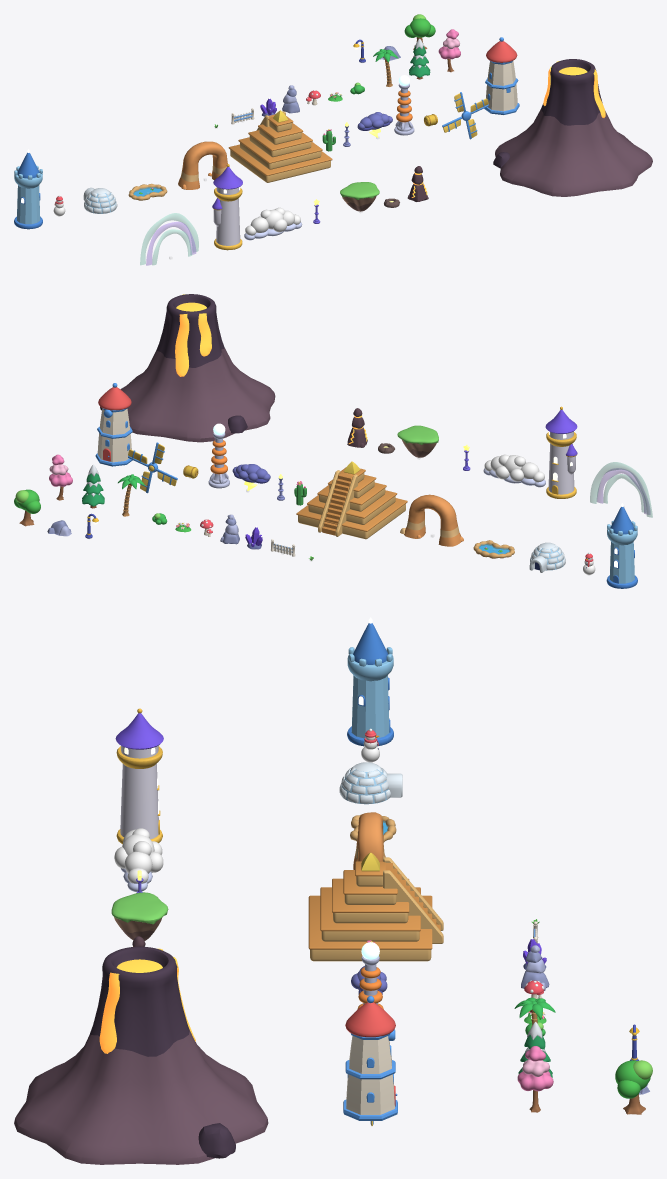
File: StormWorldProps.glb
The picture shows the model from 3 angles, top to bottom: view 1: azimuth 30°, elevation 25°; view 2: azimuth 150°, elevation 25°; view 3: azimuth 270°, elevation 25°; orthographic projection. The views are drawn at different scales.
Parts seen in each view (by area): view 1: Volcano.Primary, Volcano.Secondary, Pyramid.Secondary, Pyramid.Primary, Windmill.Color_FFF4E0, SandArch.Primary, IceCastleTower.Primary, CitadelTower.Primary, AuroraArch.Glass_9EF0D8, CloudBank.Color_FFFFFF, Igloo.Color_EAF6FF, IceCastleTower.Secondary (+15 smaller); view 2: Volcano.Primary, Volcano.Secondary, Pyramid.Secondary, Pyramid.Primary, SandArch.Primary, Volcano.Neon_FF7A2E, IceCastleTower.Primary, Windmill.Color_FFF4E0, AuroraArch.Glass_9EF0D8, CitadelTower.Primary, CloudBank.Color_FFFFFF, Igloo.Color_EAF6FF (+14 smaller); view 3: Volcano.Primary, Volcano.Secondary, Pyramid.Secondary, Pyramid.Primary, Windmill.Color_FFF4E0, IceCastleTower.Primary, CitadelTower.Primary, Igloo.Color_EAF6FF, CloudBank.Color_FFFFFF, Volcano.Neon_FF7A2E, FloatingIsland.Primary, IceCastleTower.Secondary (+6 smaller).
Boxes of the visible parts, bbox=[...] form: Volcano.Primary: bbox=[495, 109, 652, 196]; Volcano.Secondary: bbox=[493, 59, 602, 168]; Pyramid.Secondary: bbox=[228, 114, 332, 175]; Pyramid.Primary: bbox=[230, 111, 330, 182]; Windmill.Color_FFF4E0: bbox=[486, 61, 517, 111]; SandArch.Primary: bbox=[178, 141, 227, 189]; IceCastleTower.Primary: bbox=[14, 165, 42, 224]; CitadelTower.Primary: bbox=[213, 187, 240, 245]; AuroraArch.Glass_9EF0D8: bbox=[140, 213, 198, 265]; CloudBank.Color_FFFFFF: bbox=[245, 207, 300, 235]; Igloo.Color_EAF6FF: bbox=[83, 187, 117, 213]; IceCastleTower.Secondary: bbox=[14, 152, 42, 229]; Volcano.Primary: bbox=[120, 348, 275, 442]; Volcano.Secondary: bbox=[100, 294, 247, 433]; Pyramid.Secondary: bbox=[296, 467, 407, 535]; Pyramid.Primary: bbox=[298, 470, 405, 539]; SandArch.Primary: bbox=[404, 494, 463, 546]; Volcano.Neon_FF7A2E: bbox=[175, 294, 211, 376]; IceCastleTower.Primary: bbox=[607, 520, 637, 583]; Windmill.Color_FFF4E0: bbox=[97, 408, 131, 462]; AuroraArch.Glass_9EF0D8: bbox=[590, 462, 652, 517]; CitadelTower.Primary: bbox=[548, 431, 575, 494]; CloudBank.Color_FFFFFF: bbox=[484, 454, 544, 482]; Igloo.Color_EAF6FF: bbox=[529, 542, 565, 572]; Volcano.Primary: bbox=[14, 1030, 268, 1164]; Volcano.Secondary: bbox=[89, 946, 235, 1158]; Pyramid.Secondary: bbox=[308, 861, 440, 949]; Pyramid.Primary: bbox=[310, 857, 443, 961]; Windmill.Color_FFF4E0: bbox=[346, 1035, 394, 1114]; IceCastleTower.Primary: bbox=[347, 647, 393, 738]; CitadelTower.Primary: bbox=[120, 745, 158, 839]; Igloo.Color_EAF6FF: bbox=[339, 762, 402, 803]; CloudBank.Color_FFFFFF: bbox=[114, 828, 163, 883]; Volcano.Neon_FF7A2E: bbox=[99, 948, 195, 1053]; FloatingIsland.Primary: bbox=[111, 892, 168, 924]; IceCastleTower.Secondary: bbox=[347, 623, 393, 746].
Bounding box in the file's own units: 248 × 50.54 × 155.
